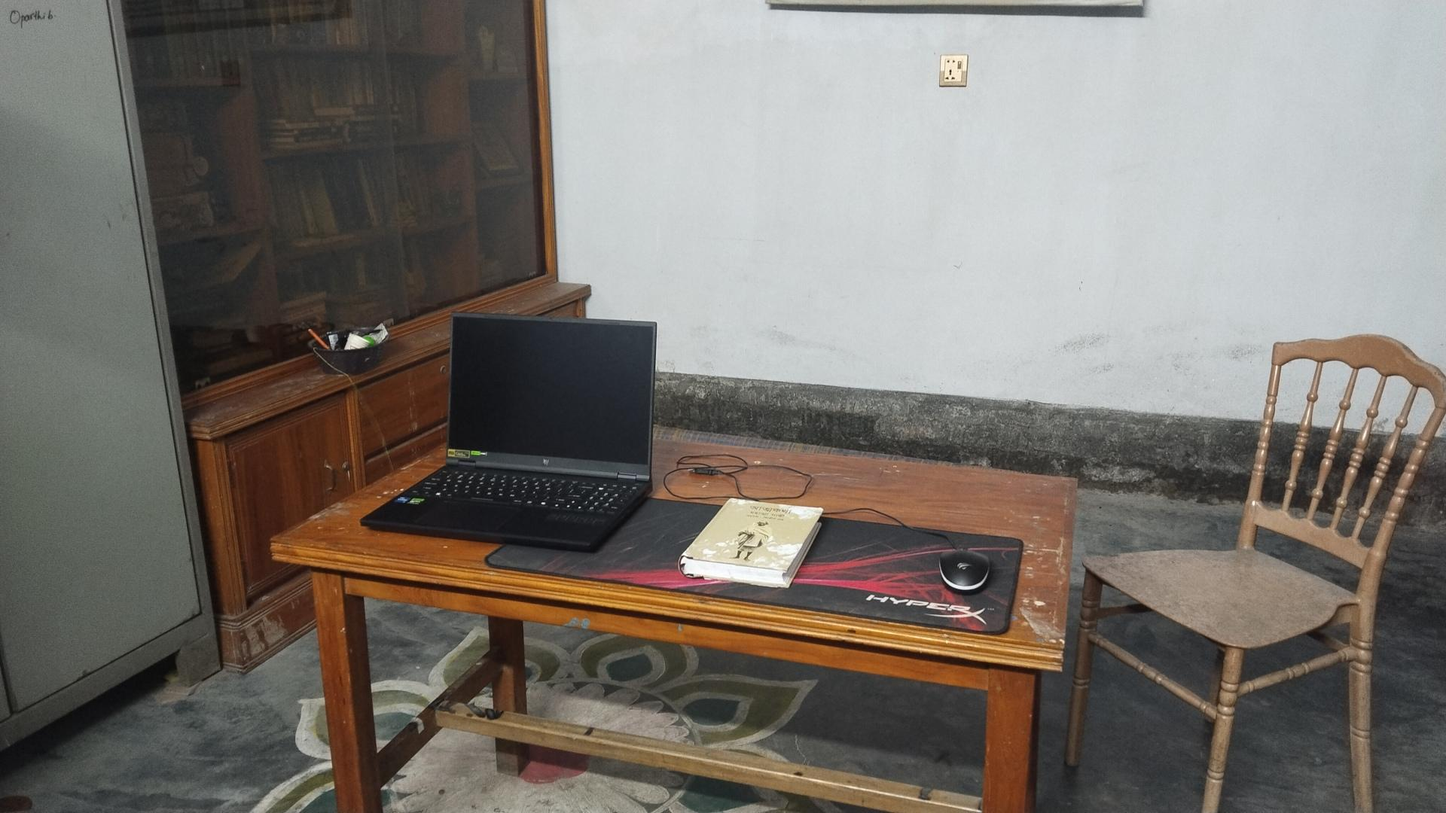Book: (680, 494, 823, 578)
Chair: (1072, 325, 1446, 813)
Laptop: (355, 306, 665, 543)
Mouse: (938, 542, 996, 591)
Table: (271, 417, 1079, 813)
